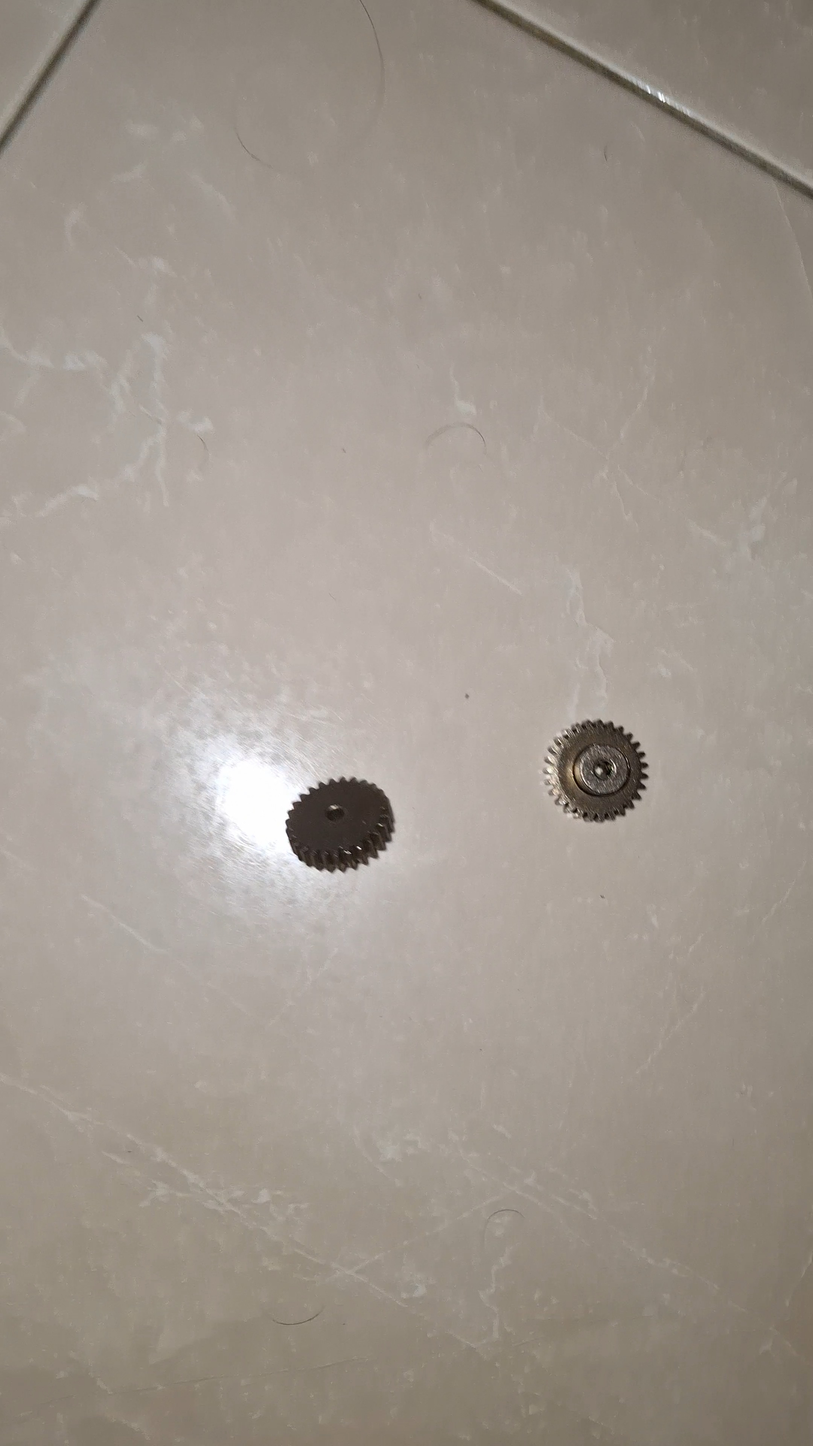spur gear: (545, 720, 647, 821), (286, 778, 394, 871)
